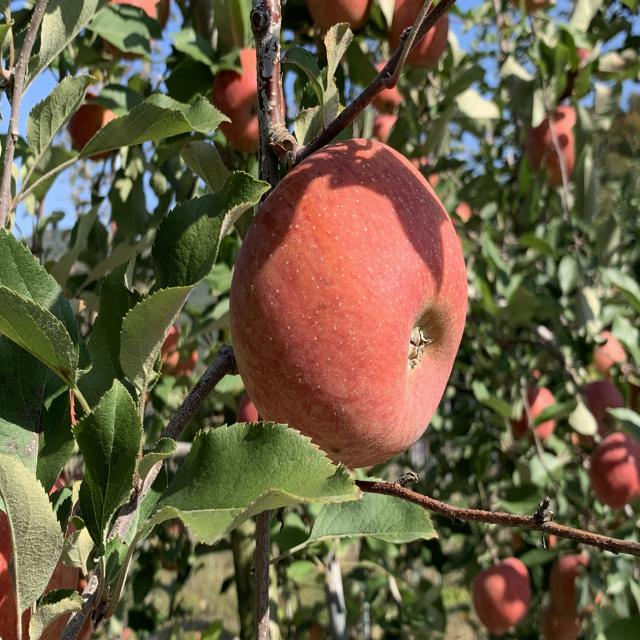fresh: (227, 134, 475, 477)
